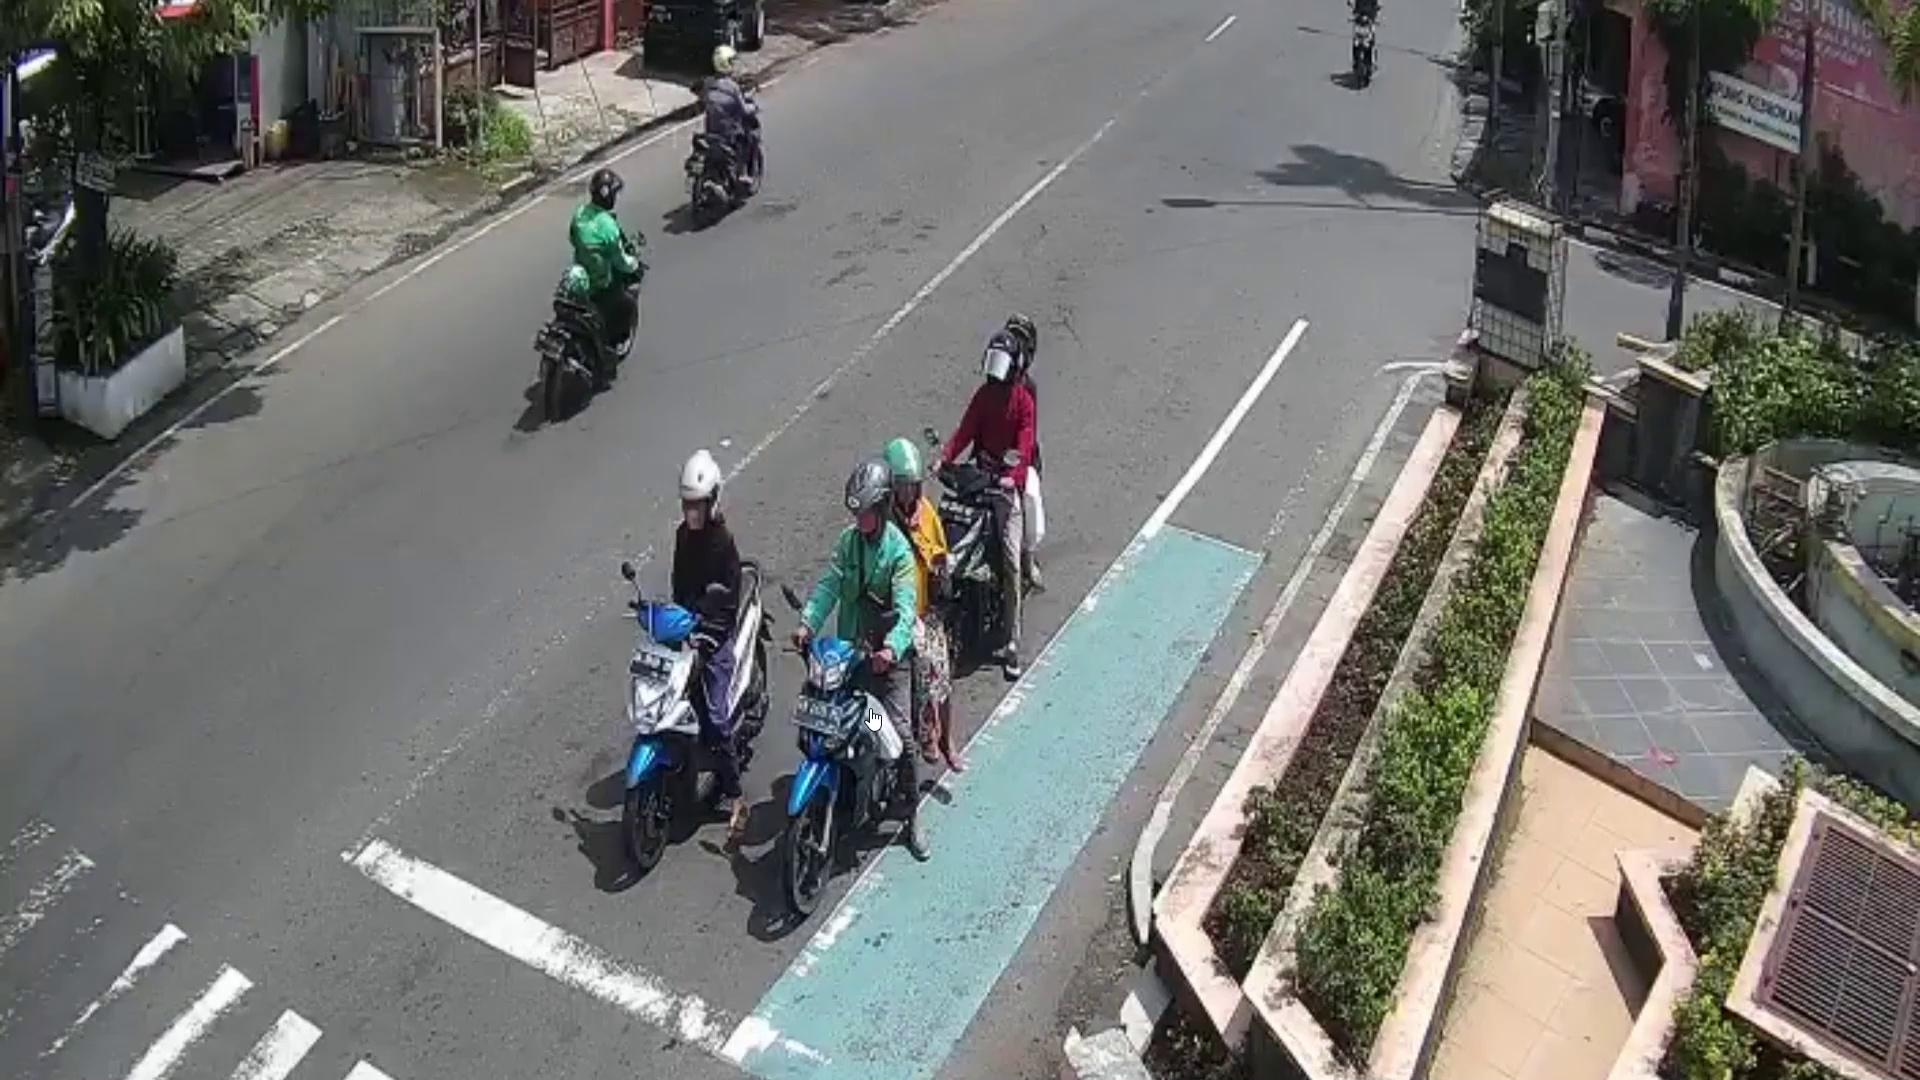motorbike: (777, 580, 951, 923), (615, 558, 777, 877), (924, 423, 1042, 705), (535, 227, 647, 425), (688, 83, 767, 225), (1348, 7, 1382, 94)
